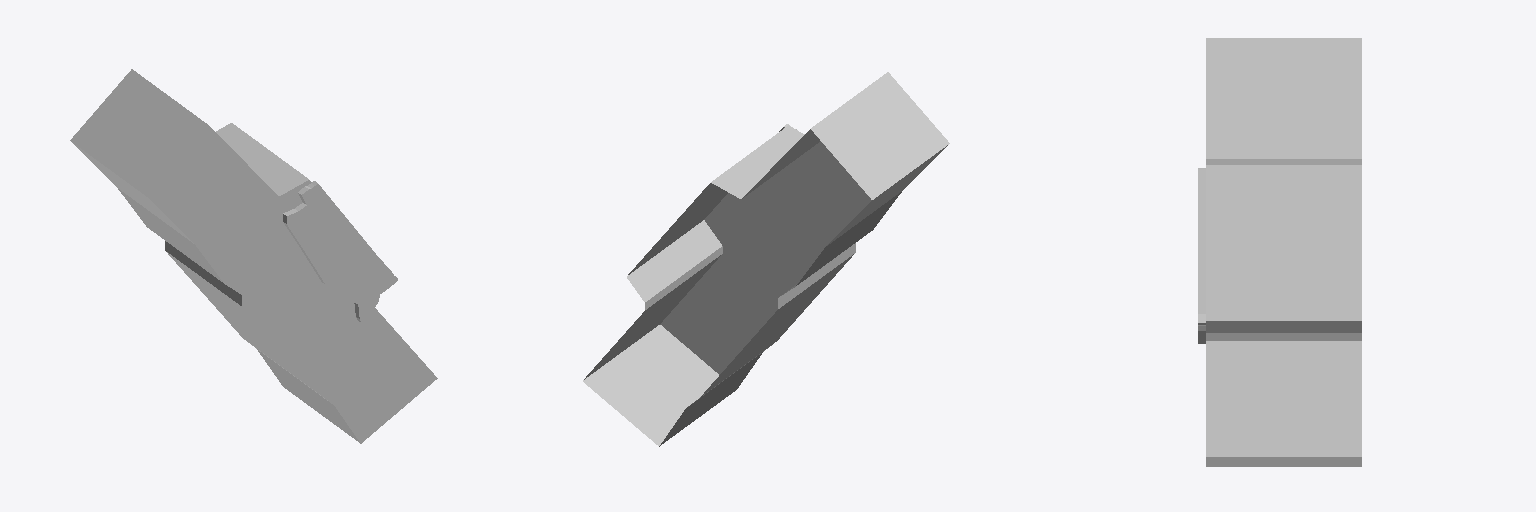
The model's file is TextureModel_BLD_Body_6.obj.
3 renders of one model, left to right at view 1: azimuth 30°, elevation 25°; view 2: azimuth 150°, elevation 25°; view 3: azimuth 270°, elevation 25°, orthographic.
Size of the model in its own units: 38.91 by 45.5 by 19.